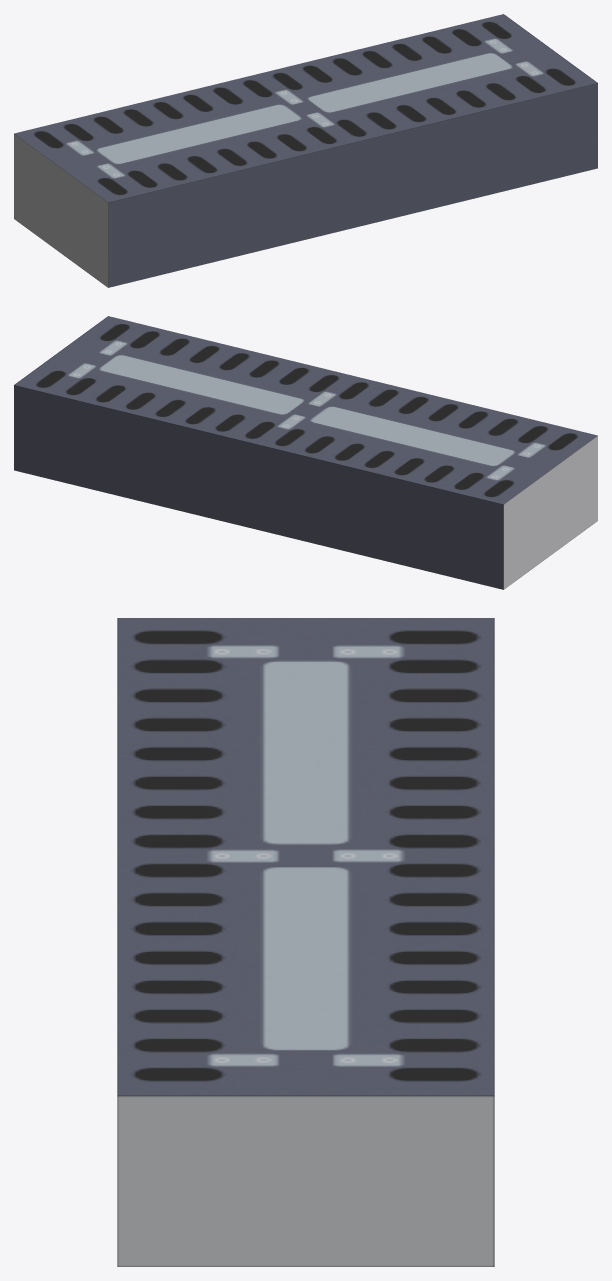
Rendered from Floor_Tinny_02.FBX.
3 views of the same model, one above another, from view 1: azimuth 30°, elevation 25°; view 2: azimuth 150°, elevation 25°; view 3: azimuth 270°, elevation 25° (orthographic). The views are drawn at different scales.
Parts seen in each view (by area): view 1: Floor_Tinny_02; view 2: Floor_Tinny_02; view 3: Floor_Tinny_02.
Boxes of the visible parts, bbox=[...] form: Floor_Tinny_02: bbox=[14, 14, 597, 287]; Floor_Tinny_02: bbox=[14, 316, 597, 589]; Floor_Tinny_02: bbox=[117, 618, 494, 1266].
Size of the model in its own units: 6 by 1 by 2.
3 materials, 3 textured.
